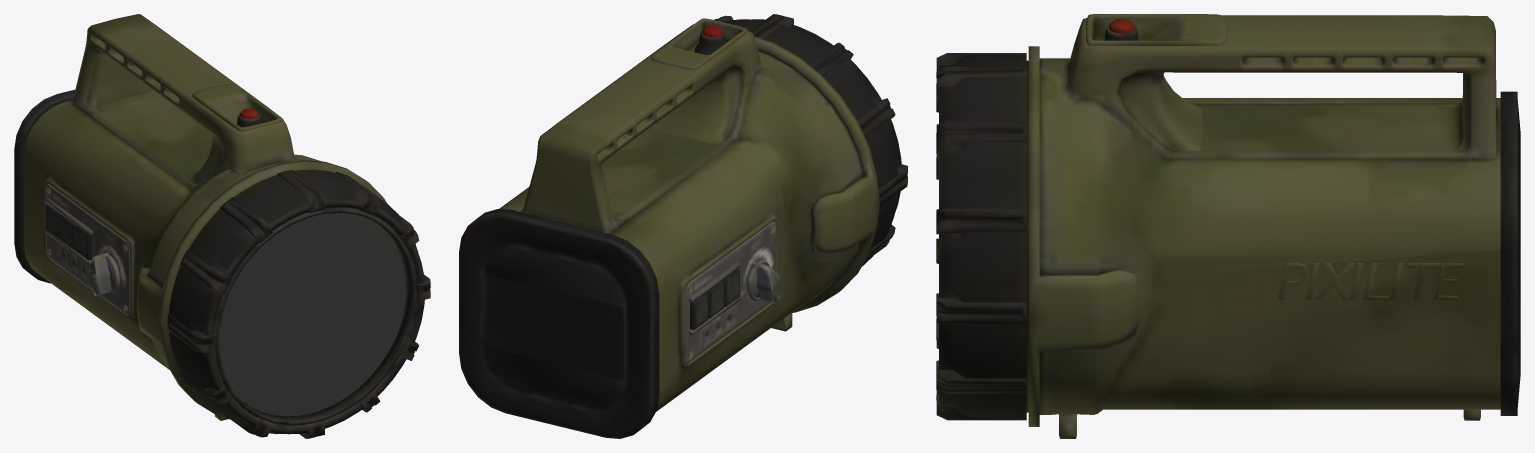
Rendered from faro.glb.
3 views of the same model, side by side, from view 1: azimuth 30°, elevation 25°; view 2: azimuth 150°, elevation 25°; view 3: azimuth 270°, elevation 25° (orthographic). The views are drawn at different scales.
Parts seen in each view (by area): view 1: portable_searchlight; view 2: portable_searchlight; view 3: portable_searchlight.
Part boxes in pixels (<box>): portable_searchlight: <box>14,14,430,438</box>; portable_searchlight: <box>459,14,907,438</box>; portable_searchlight: <box>936,14,1520,438</box>.
Bounding box in the file's own units: 0.1653 × 0.1853 × 0.2534.
Materials: 2 (2 with a texture image).
